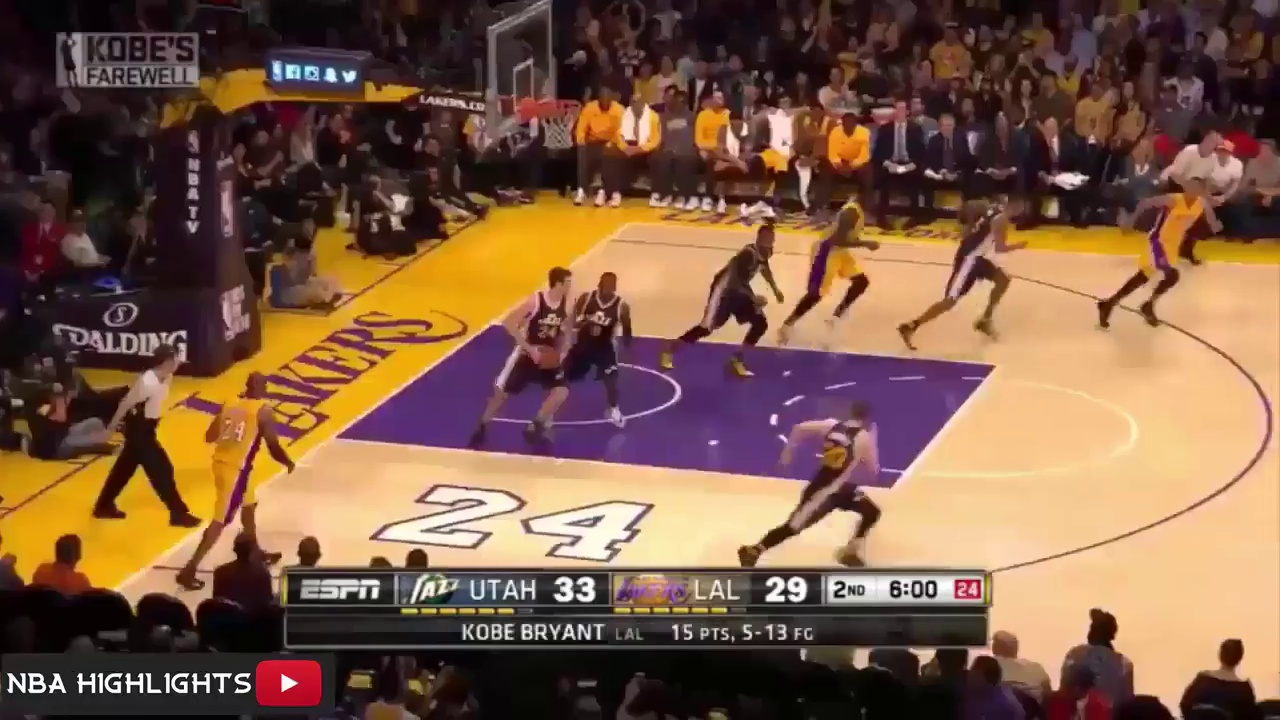jazz: (743, 402, 905, 567), (895, 194, 1035, 356), (666, 232, 795, 381), (482, 264, 580, 445), (571, 267, 655, 426)
lakers: (188, 372, 312, 580), (777, 186, 888, 356), (1104, 178, 1226, 323)
